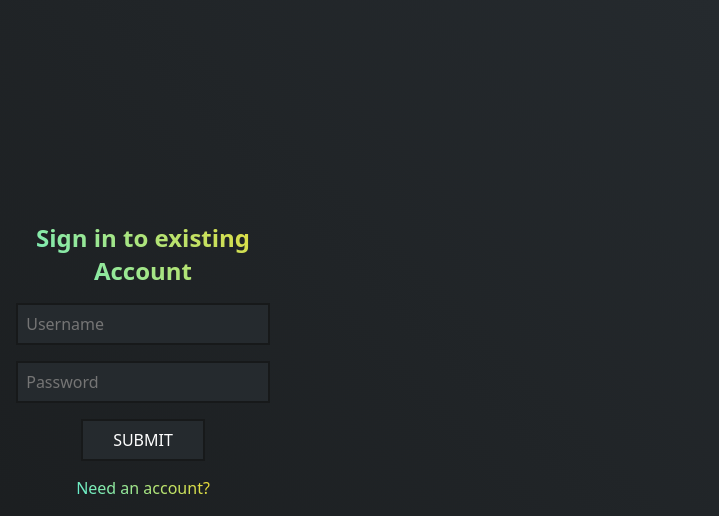
Scenario: Auth feature component › displays error message on invalid login credentials submission
Click the text "Need an account?" at (143, 488), box left=76, top=477, right=210, bottom=499
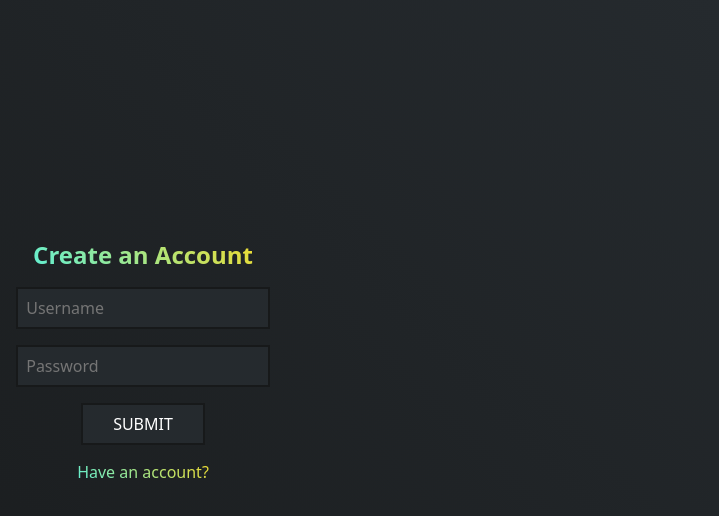
Type "testuser" into the field with placeholder "Username" at (143, 308), box left=16, top=286, right=270, bottom=328
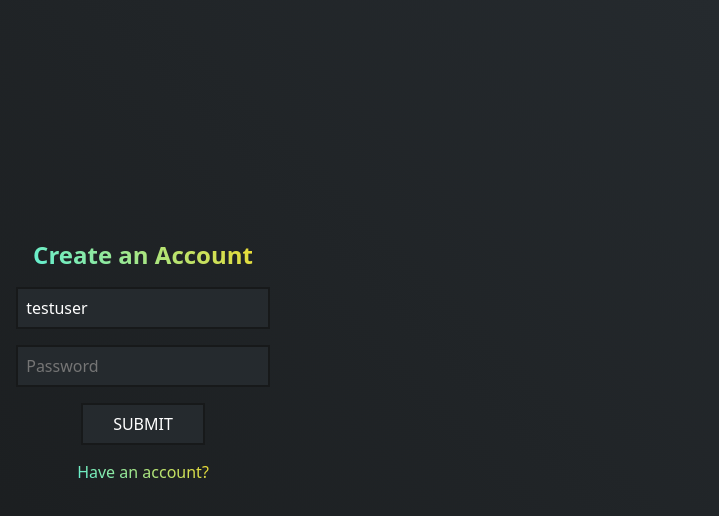
Click the button at (143, 424), box left=81, top=402, right=205, bottom=444
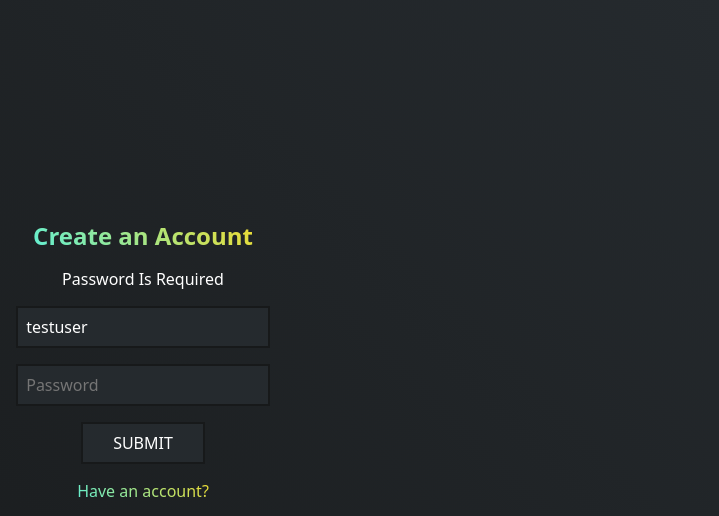
Result: the text "password is required" is shown at left=62, top=268, right=224, bottom=290
